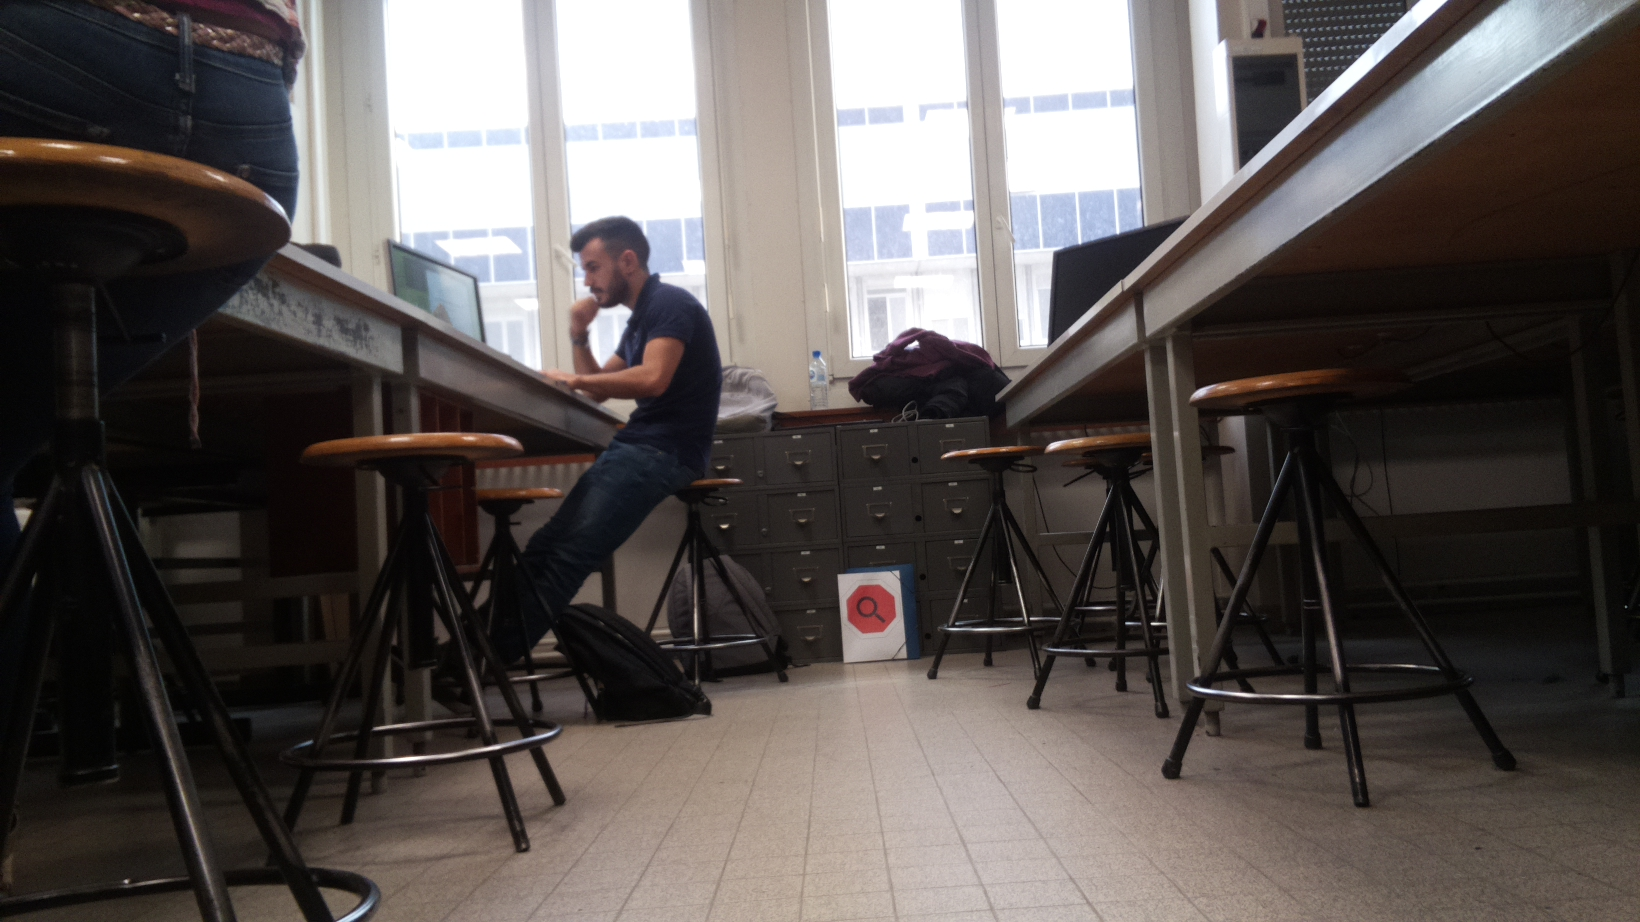search: (841, 579, 902, 638)
